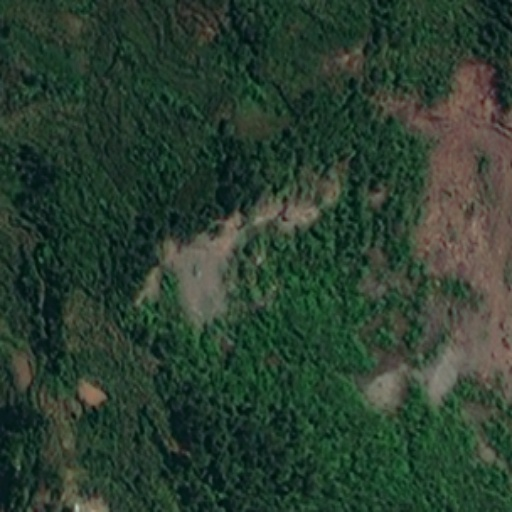landslide: (142, 169, 334, 319)
